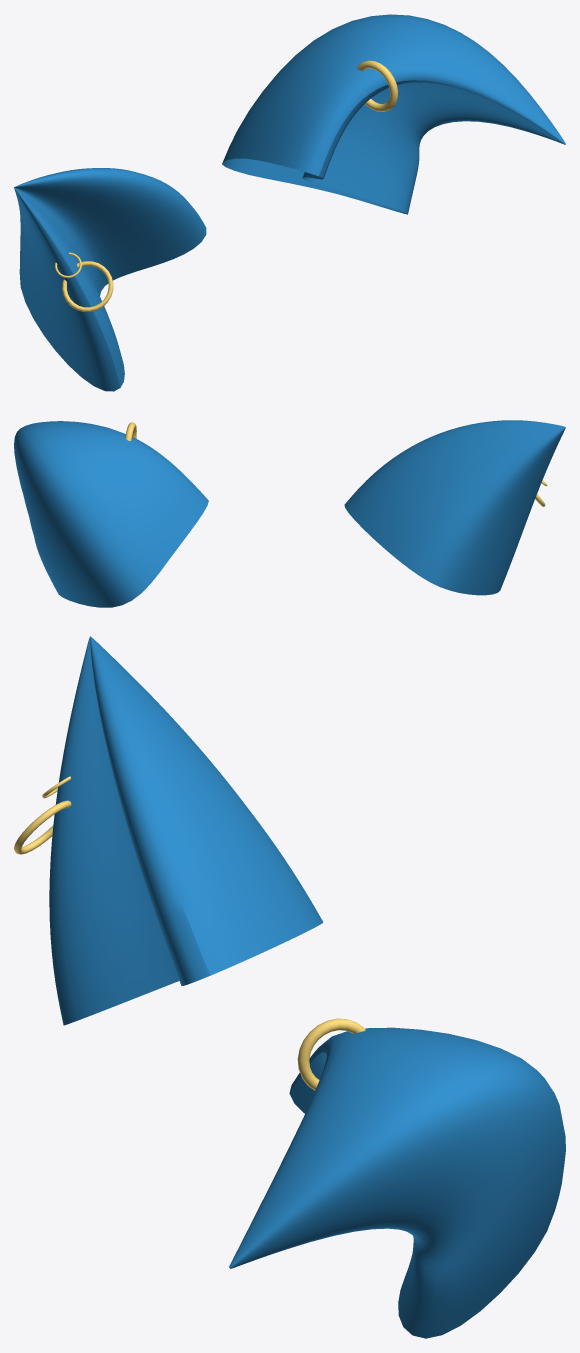
The picture shows the model from 3 angles, top to bottom: view 1: azimuth 30°, elevation 25°; view 2: azimuth 150°, elevation 25°; view 3: azimuth 270°, elevation 25°; orthographic projection. The views are drawn at different scales.
Parts seen in each view (by area): view 1: 374, ear_rings; view 2: 374, ear_rings; view 3: 374, ear_rings.
Boxes of the visible parts, left/top/right/bottom form: 374: left=14, top=14, right=565, bottom=391; ear_rings: left=55, top=60, right=397, bottom=311; 374: left=14, top=420, right=565, bottom=607; ear_rings: left=125, top=422, right=547, bottom=506; 374: left=49, top=636, right=565, bottom=1338; ear_rings: left=14, top=776, right=365, bottom=1090.
Bounding box in the file's own units: 97.01 × 52.69 × 36.08.
